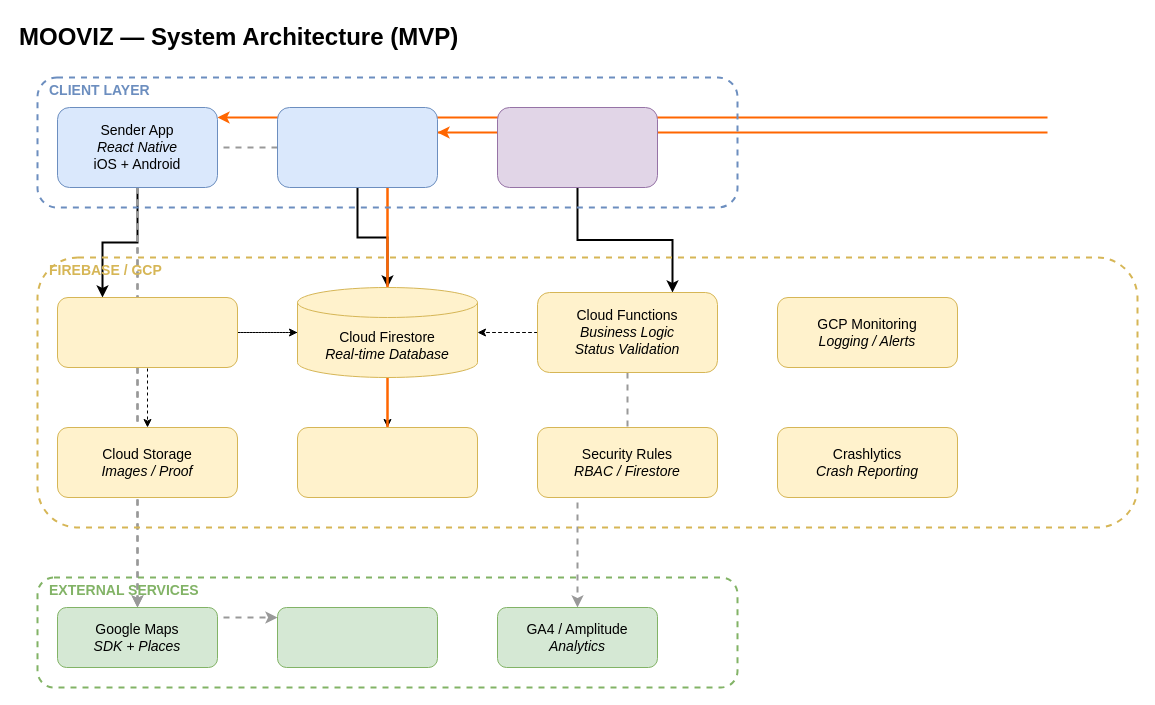
Some shapes in this 1155 by 705 pixel diagram are drawn without their labels. The box of each missing label's shape, as (x1, y1, x2, y2) in pixels:
Admin Panel React Web: (496, 106, 658, 188)
Bit / PayBox / Bank Deep Links: (276, 606, 438, 668)
Driver App React Native iOS + Android: (276, 106, 438, 188)
FCM Push Notifications: (296, 426, 478, 498)
Firebase Auth OTP (SMS/Email): (56, 296, 238, 368)
